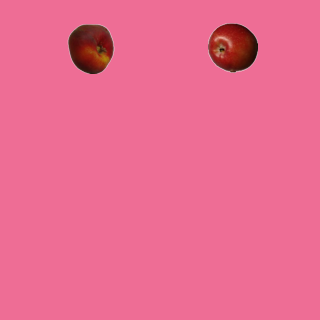Apple Braeburn: (207, 22, 257, 72)
Nectarine Flat: (65, 23, 115, 73)
